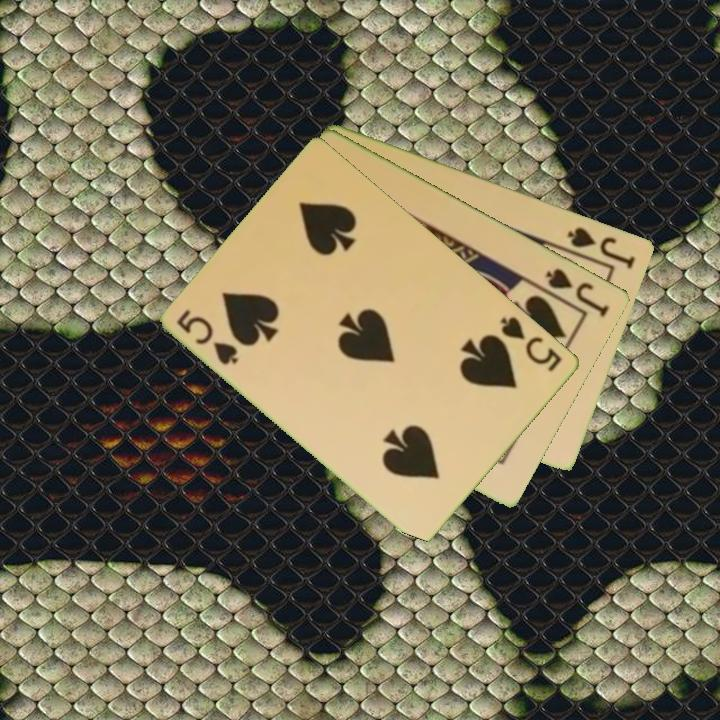5s: (173, 305, 243, 368), (497, 312, 565, 375)
Js: (542, 264, 613, 320), (564, 223, 639, 272)
